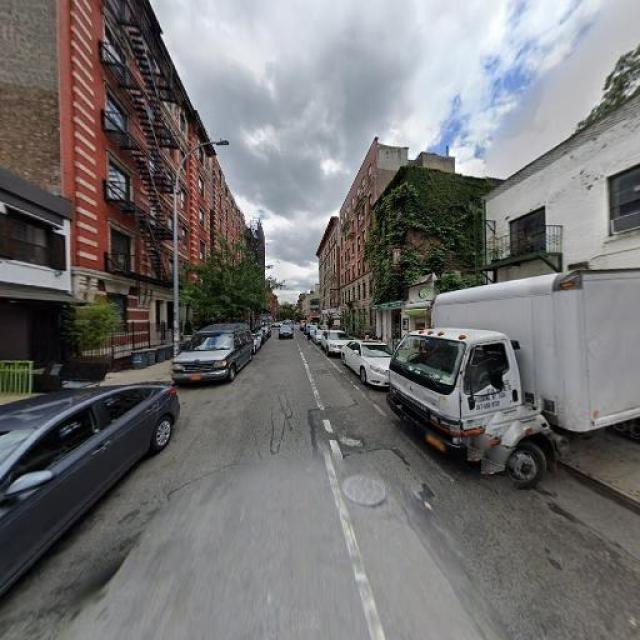Building: (75, 1, 214, 370), (488, 98, 640, 398), (1, 169, 69, 388), (340, 145, 408, 345), (409, 290, 484, 363), (324, 219, 339, 330)
